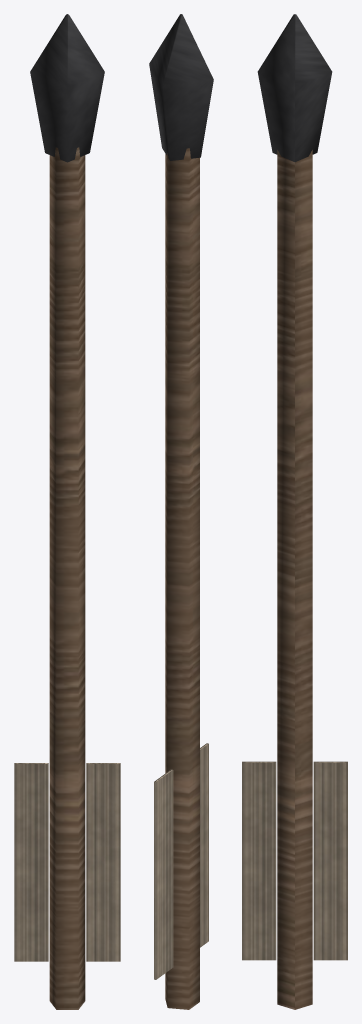
The model's file is it_bolt.glb.
3 renders of one model, left to right at view 1: azimuth 90°, elevation 25°; view 2: azimuth 150°, elevation 25°; view 3: azimuth 270°, elevation 25°, orthographic.
Visible parts, largest first — view 1: it_bolt_lod0; view 2: it_bolt_lod0; view 3: it_bolt_lod0.
Boxes of the visible parts, x1=… form: it_bolt_lod0: x1=14, y1=14, x2=120, y2=1009; it_bolt_lod0: x1=149, y1=14, x2=213, y2=1009; it_bolt_lod0: x1=242, y1=14, x2=347, y2=1009.
Size of what is drawn, in the model's own units: 0.024 by 0.35 by 0.034.
3 materials, 3 textured.
